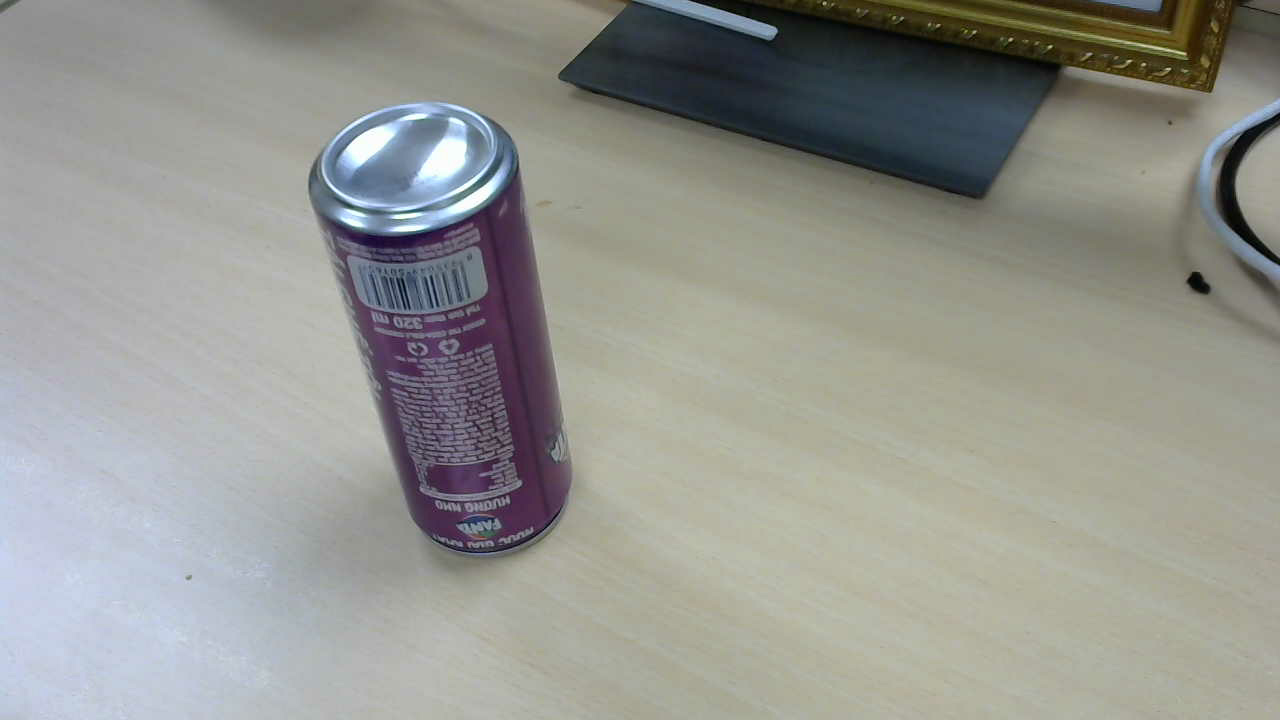Fanta: (313, 105, 578, 560)
